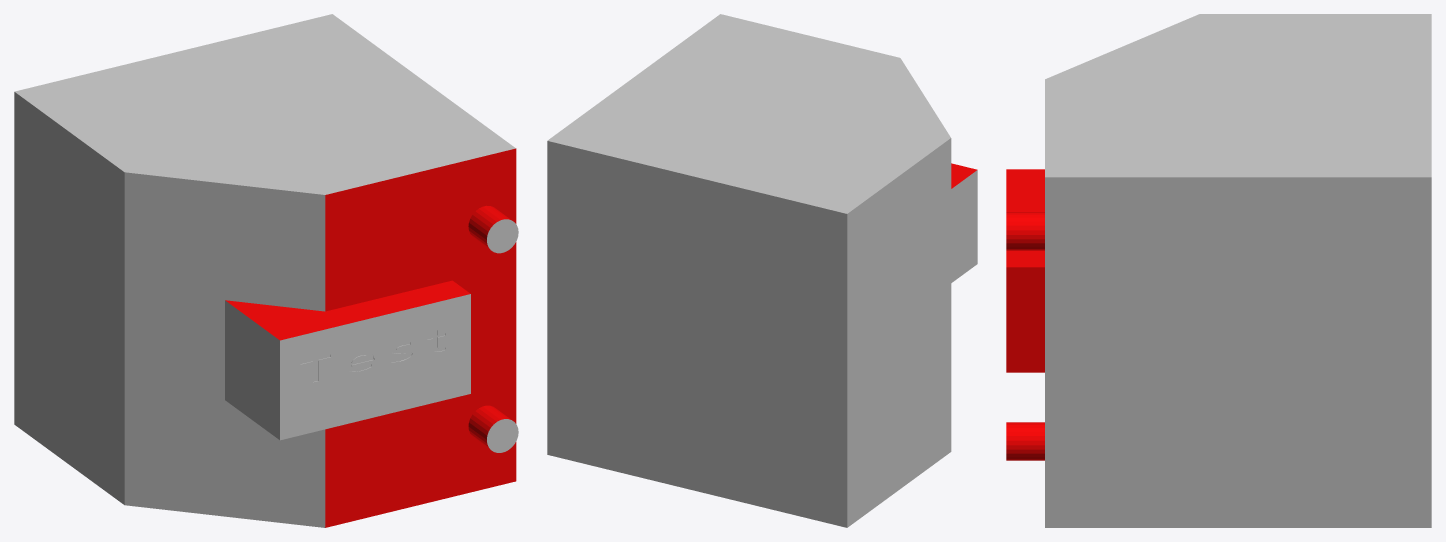
The model's file is TESTE_M1_SF_stp_26_27_31_33_69_70_72_73.obj.
The picture shows the model from 3 angles, left to right: view 1: azimuth 30°, elevation 25°; view 2: azimuth 150°, elevation 25°; view 3: azimuth 270°, elevation 25°; orthographic projection. The views are drawn at different scales.
Visible parts, largest first — view 1: Object1; view 2: Object1; view 3: Object1.
Part boxes in pixels (left/top/right/bottom): Object1: left=14, top=14, right=518, bottom=527; Object1: left=547, top=14, right=977, bottom=527; Object1: left=1006, top=14, right=1431, bottom=527.
Size of the model in its own units: 50 by 50 by 55.
